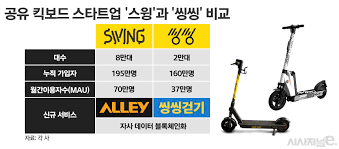kick_board: (268, 25, 327, 110), (222, 59, 289, 132)
kick_body: (242, 121, 276, 128)
kick_handler: (281, 24, 305, 32), (231, 59, 243, 71)
kick_neck: (281, 34, 295, 86), (229, 73, 240, 111)
kick_wheel: (268, 89, 286, 111), (221, 117, 234, 132), (276, 118, 289, 133), (315, 85, 328, 99)
